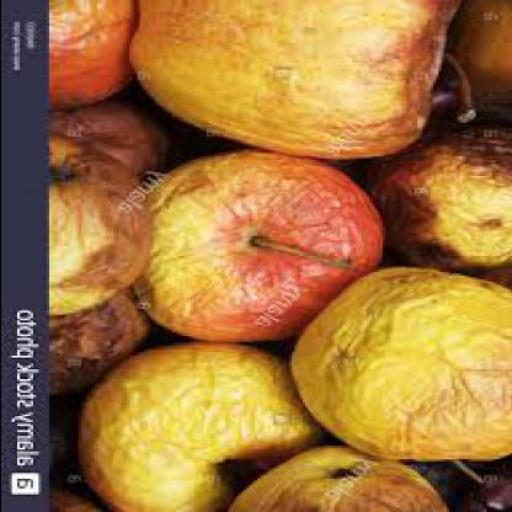biodegradable: (48, 1, 511, 512), (133, 2, 480, 162), (139, 154, 387, 344), (80, 344, 334, 511), (295, 270, 511, 466), (368, 126, 511, 274), (50, 134, 144, 319), (226, 447, 450, 511), (51, 286, 155, 396), (48, 102, 174, 180), (53, 2, 139, 111), (446, 2, 510, 124), (48, 392, 80, 488), (450, 466, 511, 511), (53, 488, 109, 510)
